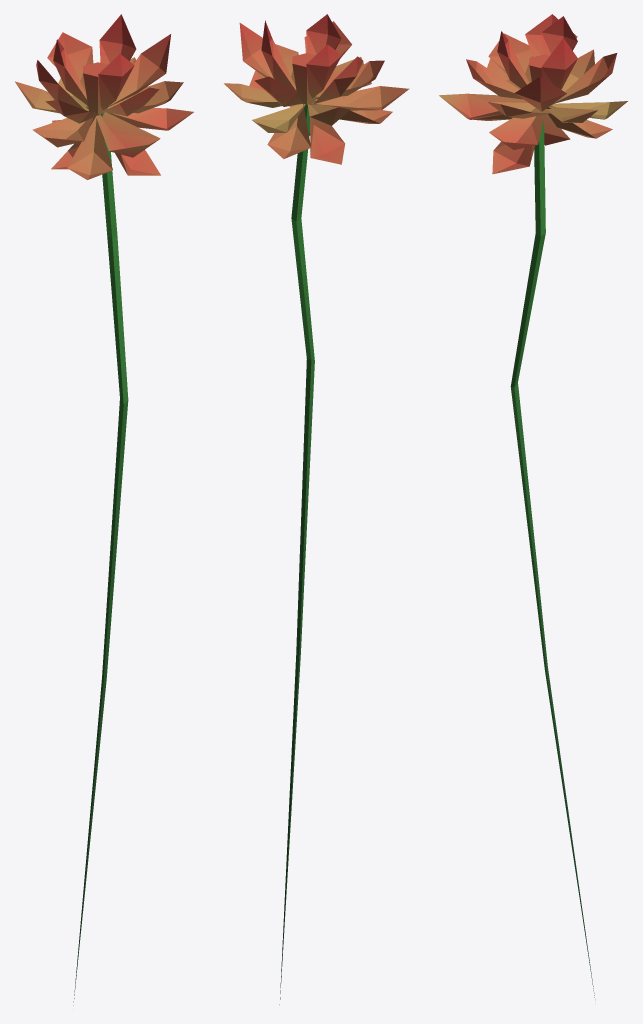
The model's file is ZLP_Grass_E_13.FBX.
3 views of the same model, side by side, from view 1: azimuth 30°, elevation 25°; view 2: azimuth 150°, elevation 25°; view 3: azimuth 270°, elevation 25° (orthographic). The views are drawn at different scales.
Parts seen in each view (by area): view 1: ZLP_Grass_E_13; view 2: ZLP_Grass_E_13; view 3: ZLP_Grass_E_13.
Part boxes in pixels (x1=…): ZLP_Grass_E_13: x1=15, y1=14, x2=193, y2=1005; ZLP_Grass_E_13: x1=224, y1=14, x2=409, y2=1004; ZLP_Grass_E_13: x1=439, y1=14, x2=627, y2=999.
Bounding box in the file's own units: 39.11 × 242 × 42.24.
